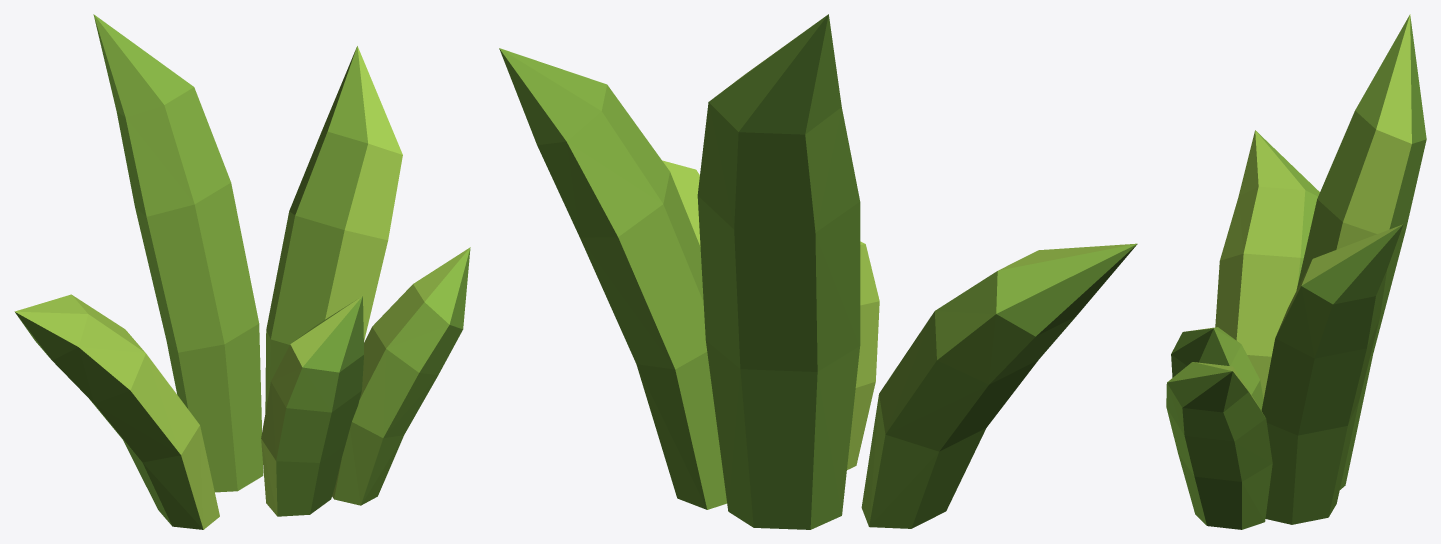
The model's file is FMS_Crop_Wheat_S1.fbx.
3 views of the same model, side by side, from view 1: azimuth 30°, elevation 25°; view 2: azimuth 150°, elevation 25°; view 3: azimuth 270°, elevation 25° (orthographic). The views are drawn at different scales.
Visible parts, largest first — view 1: FMS_Crop_Wheat_S1; view 2: FMS_Crop_Wheat_S1; view 3: FMS_Crop_Wheat_S1.
Part boxes in pixels (box(x1,y1,x2,y2)): FMS_Crop_Wheat_S1: box(14, 14, 470, 529); FMS_Crop_Wheat_S1: box(499, 14, 1137, 529); FMS_Crop_Wheat_S1: box(1166, 14, 1426, 529).
Size of the model in its own units: 0.3954 by 0.3814 by 0.2097.
